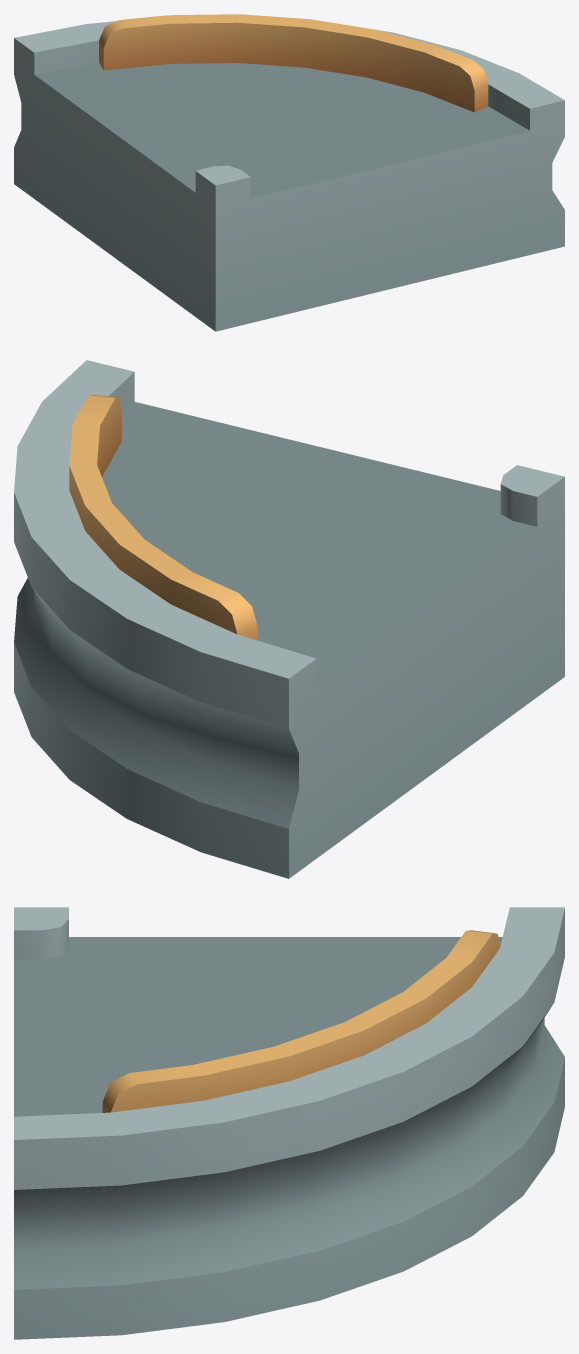
File: conveyor-corner.glb
3 views of the same model, one above another, from view 1: azimuth 30°, elevation 25°; view 2: azimuth 150°, elevation 25°; view 3: azimuth 270°, elevation 25° (orthographic). The views are drawn at different scales.
Visible parts, largest first — view 1: conveyor-corner; view 2: conveyor-corner; view 3: conveyor-corner.
Part boxes in pixels (x1,y1,x2,y2): conveyor-corner: (14,14,564,331); conveyor-corner: (14,360,564,878); conveyor-corner: (14,907,564,1339).
Size of the model in its own units: 1 by 0.45 by 1.
Materials: 1 (1 with a texture image).
